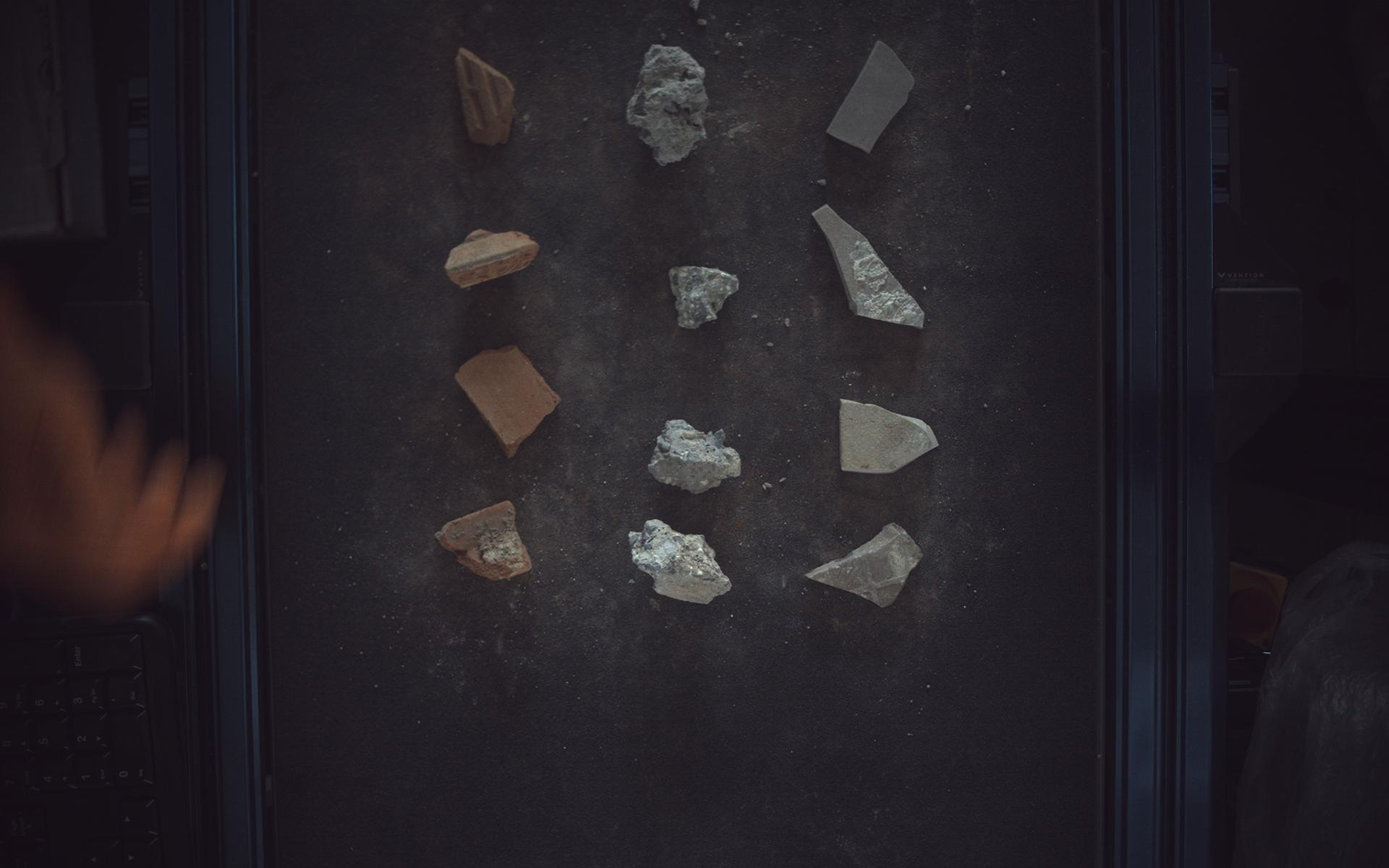brick: (455, 345, 561, 457), (435, 501, 532, 581), (456, 46, 515, 145), (445, 228, 539, 287)
concrete: (627, 43, 710, 164), (629, 519, 732, 605), (649, 420, 742, 494), (670, 265, 740, 328)
tile: (814, 203, 926, 328), (829, 39, 916, 151), (808, 524, 924, 608), (841, 399, 940, 474)
